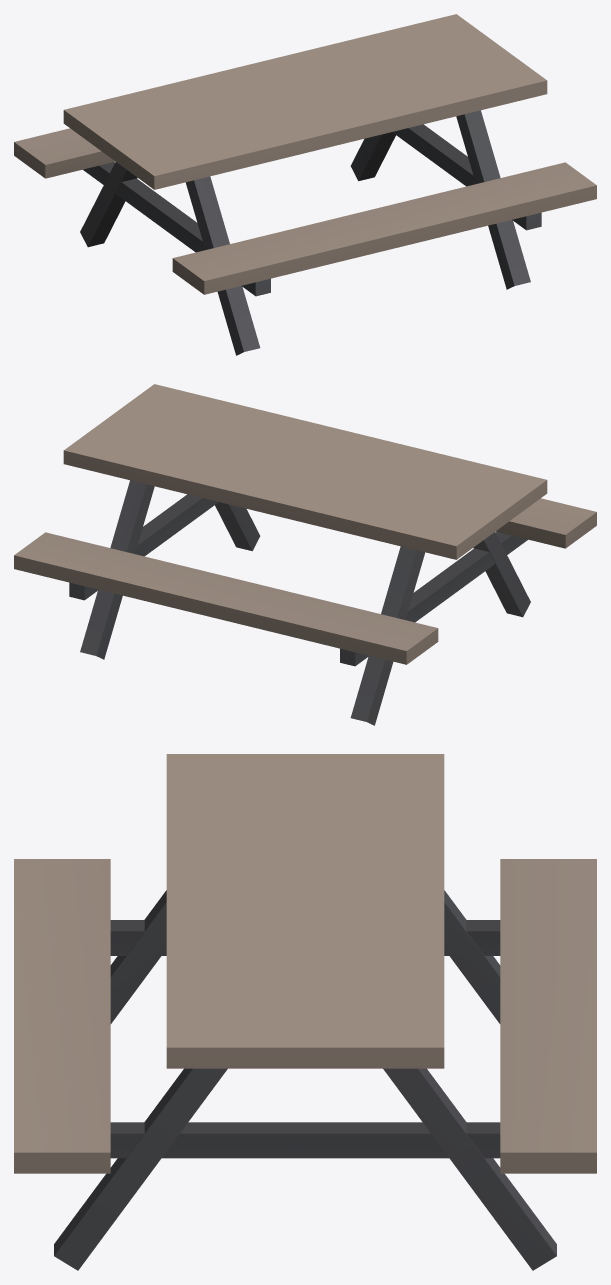
Rendered from picnic.lod1.glb.
The picture shows the model from 3 angles, top to bottom: view 1: azimuth 30°, elevation 25°; view 2: azimuth 150°, elevation 25°; view 3: azimuth 270°, elevation 25°; orthographic projection. The views are drawn at different scales.
Size of the model in its own units: 1.8 by 0.7509 by 1.51.
